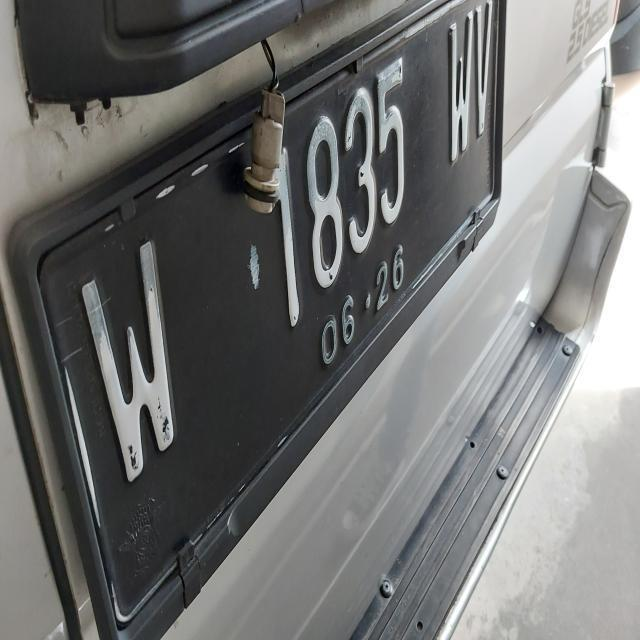1: (255, 137, 319, 358)
3: (338, 82, 385, 255)
5: (364, 54, 432, 242)
8: (296, 116, 358, 294)
V: (469, 0, 507, 160)
W: (66, 252, 204, 498), (431, 0, 483, 176)
